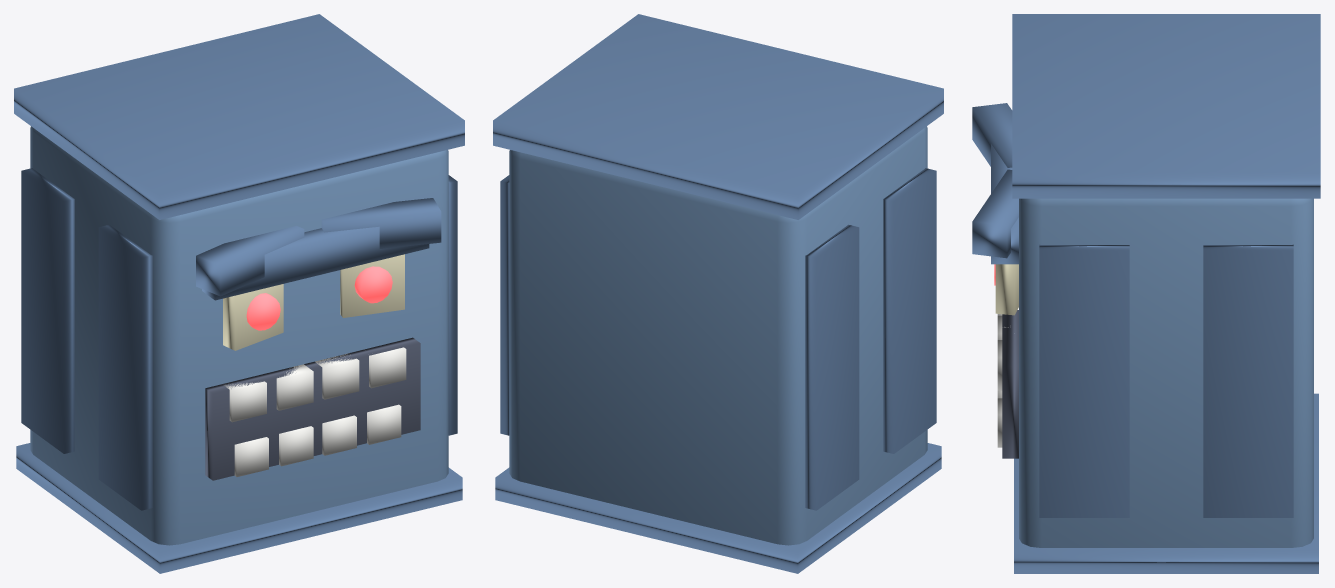
The model's file is SM64_Thwomp.fbx.
3 renders of one model, left to right at view 1: azimuth 30°, elevation 25°; view 2: azimuth 150°, elevation 25°; view 3: azimuth 270°, elevation 25°, orthographic. The views are drawn at different scales.
Parts seen in each view (by area): view 1: ThwompMainBody, ThwompTopCap, ThwompSidePanel_-1.12_-0.5, ThwompSidePanel_-1.12_0.5, ThwompBottomSlab, ThwompMouthCavity, ThwompBrowCenter, ThwompBrowSlant_-0.48, ThwompBrowSlant_0.48, ThwompSidePanel_1.12_-0.5, ThwompEyeOuter_0.44, ThwompEyeOuter_-0.44 (+10 smaller); view 2: ThwompMainBody, ThwompTopCap, ThwompSidePanel_-1.12_0.5, ThwompSidePanel_-1.12_-0.5, ThwompBottomSlab, ThwompSidePanel_1.12_0.5; view 3: ThwompTopCap, ThwompMainBody, ThwompSidePanel_1.12_-0.5, ThwompSidePanel_1.12_0.5, ThwompBottomSlab, ThwompBrowSlant_0.48, ThwompMouthCavity, ThwompBrowSlant_-0.48, ThwompEyeOuter_0.44, ThwompBrowCenter.
Part boxes in pixels (x1,y1,x2,y2): ThwompMainBody: [30, 126, 448, 545]; ThwompTopCap: [14, 14, 464, 219]; ThwompSidePanel_-1.12_-0.5: [98, 224, 152, 510]; ThwompSidePanel_-1.12_0.5: [21, 168, 74, 453]; ThwompBottomSlab: [16, 443, 462, 573]; ThwompMouthCavity: [205, 337, 420, 480]; ThwompBrowCenter: [202, 226, 429, 300]; ThwompBrowSlant_-0.48: [196, 226, 304, 296]; ThwompBrowSlant_0.48: [321, 198, 441, 248]; ThwompSidePanel_1.12_-0.5: [448, 175, 457, 435]; ThwompEyeOuter_0.44: [340, 254, 404, 317]; ThwompEyeOuter_-0.44: [223, 284, 283, 350]; ThwompMainBody: [509, 126, 927, 545]; ThwompTopCap: [493, 14, 943, 219]; ThwompSidePanel_-1.12_0.5: [805, 224, 859, 510]; ThwompSidePanel_-1.12_-0.5: [883, 168, 936, 453]; ThwompBottomSlab: [495, 443, 941, 573]; ThwompSidePanel_1.12_0.5: [500, 175, 509, 435]; ThwompTopCap: [1012, 14, 1320, 198]; ThwompMainBody: [1019, 198, 1313, 547]; ThwompSidePanel_1.12_-0.5: [1039, 244, 1129, 517]; ThwompSidePanel_1.12_0.5: [1203, 244, 1293, 517]; ThwompBottomSlab: [1014, 393, 1318, 573]; ThwompBrowSlant_0.48: [972, 169, 1018, 258]; ThwompMouthCavity: [1002, 310, 1018, 458]; ThwompBrowSlant_-0.48: [972, 103, 1012, 167]; ThwompEyeOuter_0.44: [995, 264, 1018, 315]; ThwompBrowCenter: [991, 144, 1018, 264].
Bounding box in the file's own units: 2.36 × 2.71 × 2.12.
